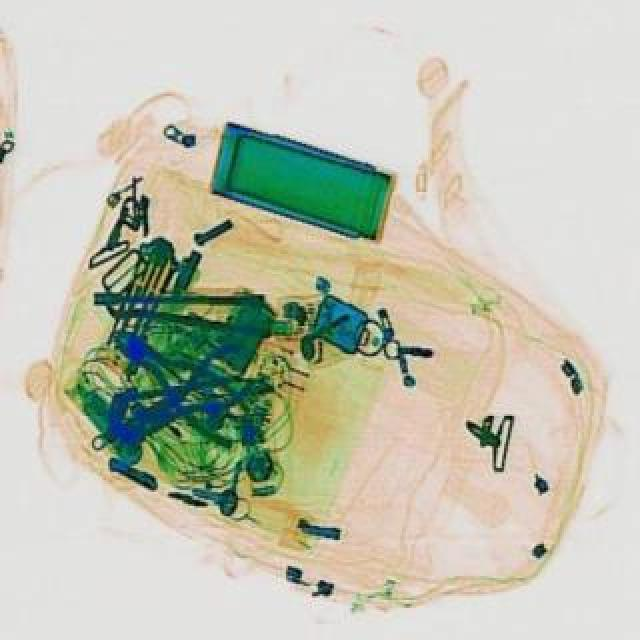wrench: (98, 310, 266, 454), (108, 334, 264, 458)
